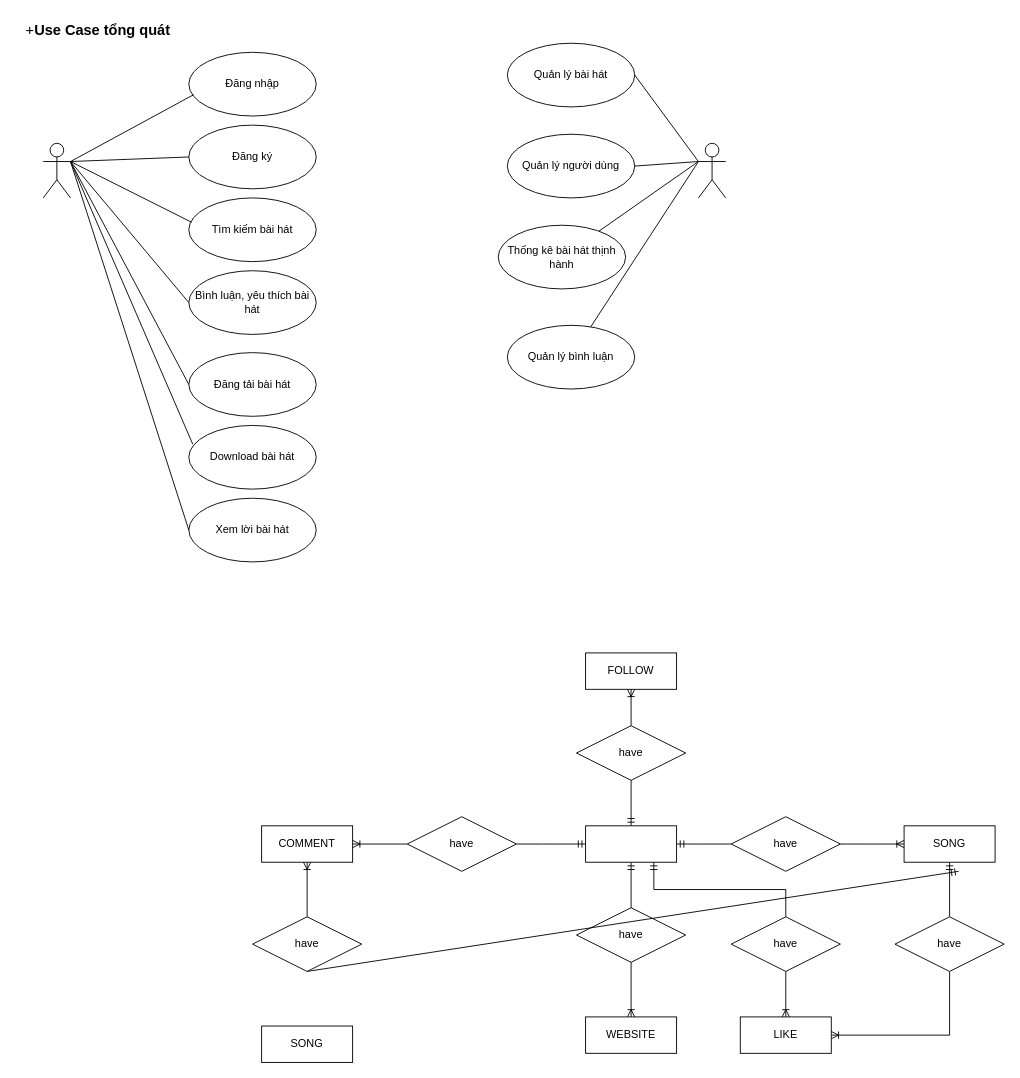
Image size: 1020x1078. Some labels were removed from this diagram. Here are the shapes that lost their labels. From the top down, the box of each, then its label:
(42, 142, 71, 198): Người dùng
(698, 142, 726, 198): Quản lý
(585, 825, 677, 862): USER
